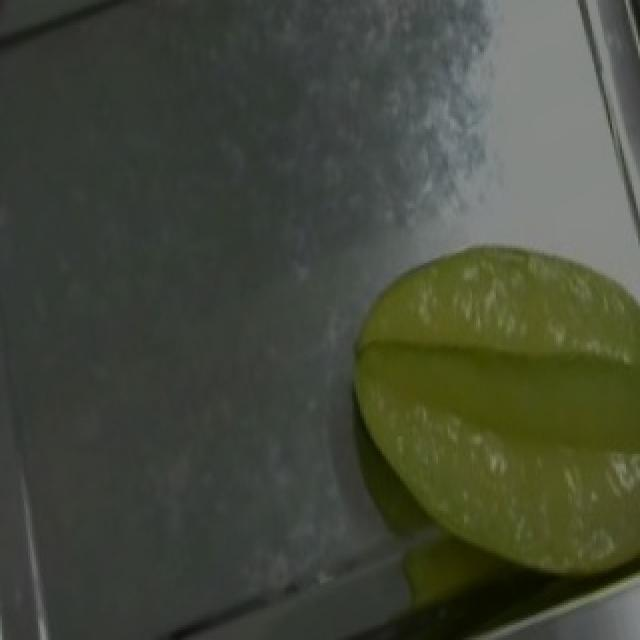fruit: (290, 203, 640, 618)
